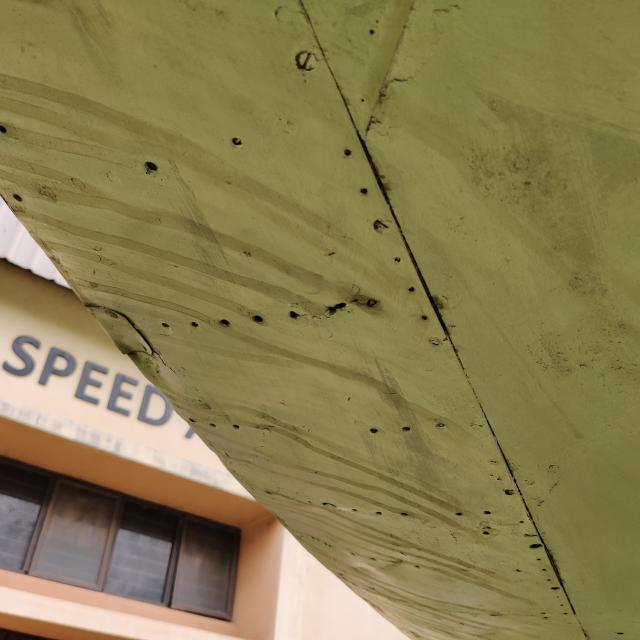crack: (319, 290, 356, 328)
